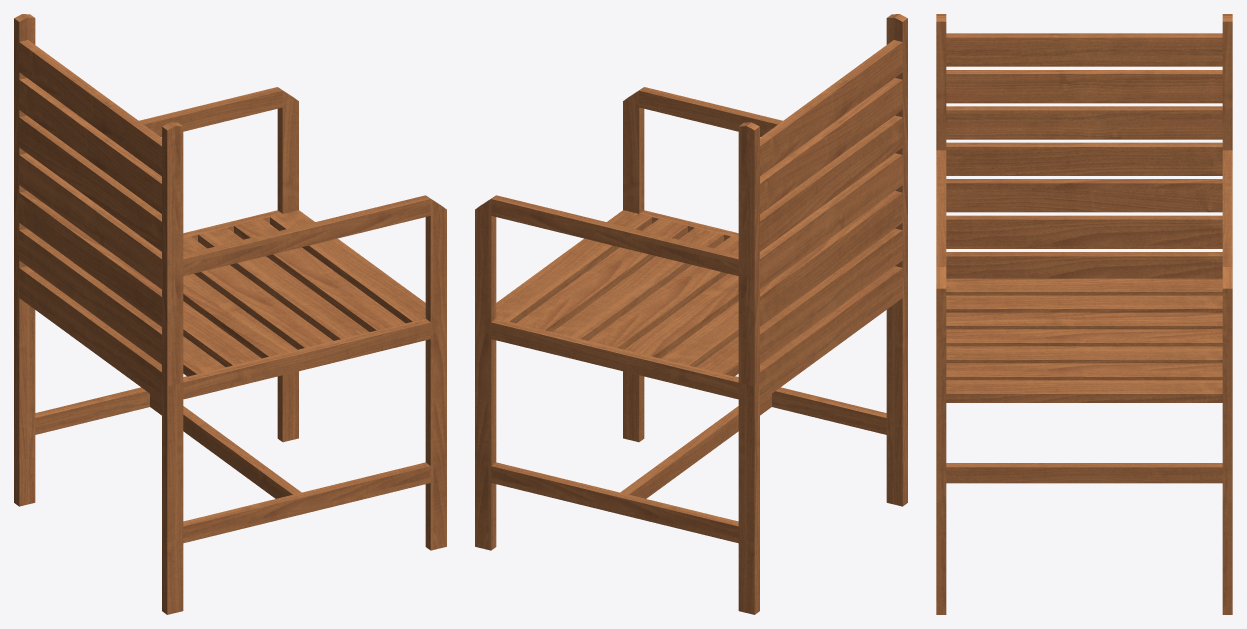
The model's file is Pool_Chair.fbx.
3 renders of one model, left to right at view 1: azimuth 30°, elevation 25°; view 2: azimuth 150°, elevation 25°; view 3: azimuth 270°, elevation 25°, orthographic. The views are drawn at different scales.
Parts seen in each view (by area): view 1: Pool_Chair; view 2: Pool_Chair; view 3: Pool_Chair.
Part boxes in pixels (box(x1,y1,x2,y2)): Pool_Chair: box(14, 14, 446, 614); Pool_Chair: box(475, 14, 907, 614); Pool_Chair: box(936, 14, 1232, 614).
Bounding box in the file's own units: 944 × 1570 × 895.
1 material, 1 textured.
